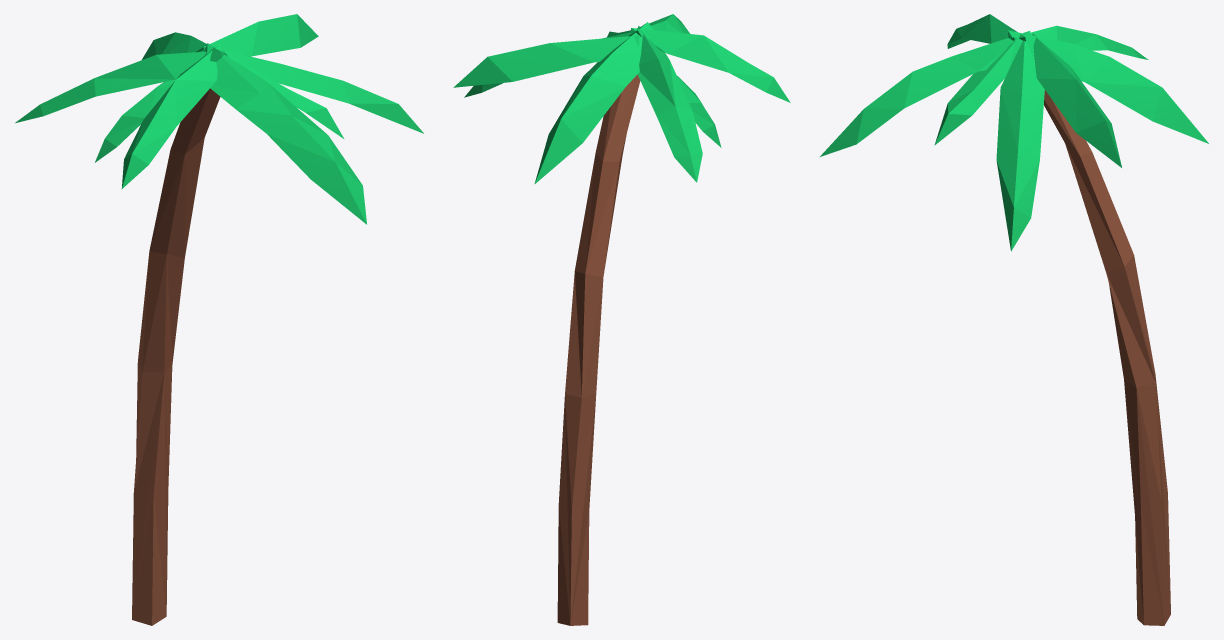
File: Tree_09_gradient_green.fbx
3 views of the same model, side by side, from view 1: azimuth 30°, elevation 25°; view 2: azimuth 150°, elevation 25°; view 3: azimuth 270°, elevation 25° (orthographic). The views are drawn at different scales.
Visible parts, largest first — view 1: Tree_09_gradient_green; view 2: Tree_09_gradient_green; view 3: Tree_09_gradient_green.
Part boxes in pixels (left/top/right/bottom): Tree_09_gradient_green: left=15, top=14, right=423, bottom=625; Tree_09_gradient_green: left=453, top=14, right=790, bottom=625; Tree_09_gradient_green: left=820, top=14, right=1208, bottom=625.
Size of the model in its own units: 128 by 228 by 137.
